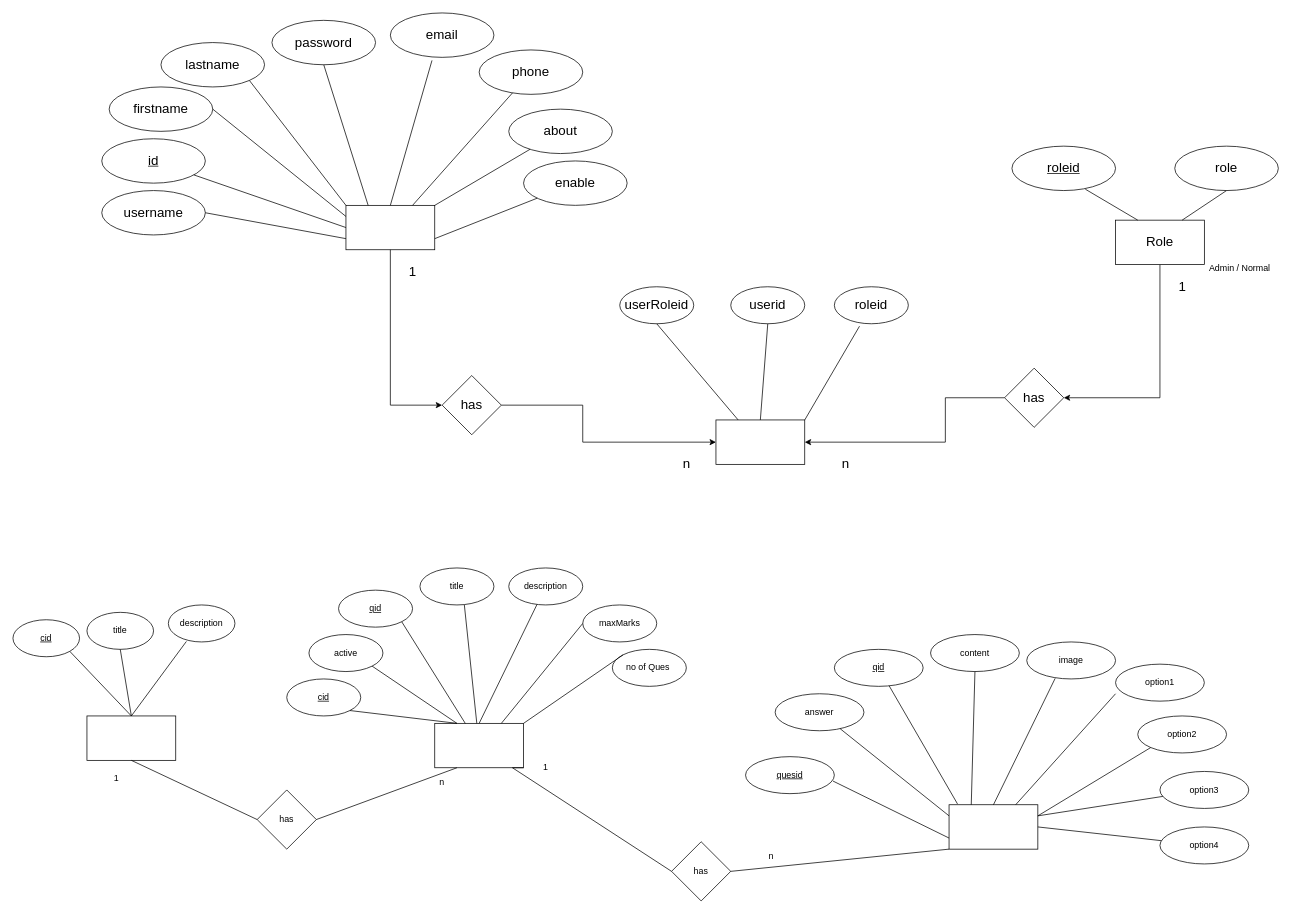
The diagram is 1291 pixels wide and 914 high, and some of its shapes have lost their labels. Each missing label, with the box of its shape:
Category: (86, 715, 176, 760)
Quiz: (434, 723, 524, 768)
Quuestion: (948, 804, 1038, 849)
User: (345, 205, 435, 250)
User_Role: (715, 419, 805, 464)
